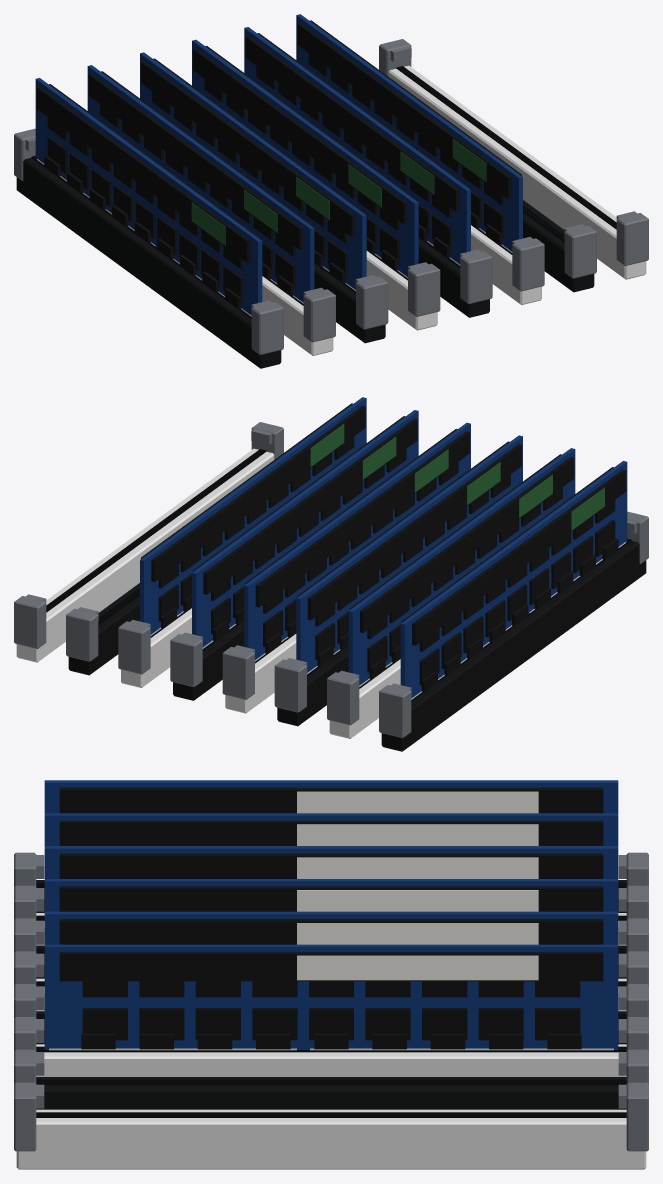
File: hwm_ram_ddr4_192gb.glb
3 views of the same model, one above another, from view 1: azimuth 30°, elevation 25°; view 2: azimuth 150°, elevation 25°; view 3: azimuth 270°, elevation 25° (orthographic). The views are drawn at different scales.
Parts seen in each view (by area): view 1: Slots, Stick_0, Stick_1, Stick_4, Stick_3, Stick_2, Stick_5, Latch_2_1, Latch_1_1, Latch_4_1, Latch_0_1, Latch_5_1 (+5 smaller); view 2: Slots, Stick_0, Stick_1, Stick_4, Stick_3, Stick_2, Stick_5, Latch_2_0, Latch_1_0, Latch_4_0, Latch_0_0, Latch_5_0 (+5 smaller); view 3: Slots, Stick_5, Stick_0, Stick_4, Stick_1, Stick_2, Stick_3, Latch_7_0, Latch_7_1, Latch_2_0, Latch_2_1, Latch_6_0 (+11 smaller).
Part boxes in pixels (<box>): Slots: <box>16,65,646,368</box>; Stick_0: <box>35,78,262,316</box>; Stick_1: <box>87,65,314,303</box>; Stick_4: <box>244,27,470,265</box>; Stick_3: <box>192,39,418,278</box>; Stick_2: <box>140,52,366,291</box>; Stick_5: <box>296,14,522,252</box>; Latch_2_1: <box>355,275,388,329</box>; Latch_1_1: <box>303,287,335,342</box>; Latch_4_1: <box>460,249,492,303</box>; Latch_0_1: <box>251,300,283,354</box>; Latch_5_1: <box>512,237,544,291</box>; Slots: <box>16,448,646,751</box>; Stick_0: <box>400,461,627,699</box>; Stick_1: <box>348,448,575,686</box>; Stick_4: <box>192,410,418,648</box>; Stick_3: <box>244,422,470,661</box>; Stick_2: <box>296,435,522,674</box>; Stick_5: <box>140,397,366,635</box>; Latch_2_0: <box>274,658,307,712</box>; Latch_1_0: <box>327,670,359,725</box>; Latch_4_0: <box>170,632,202,686</box>; Latch_0_0: <box>379,683,411,737</box>; Latch_5_0: <box>118,620,150,674</box>; Slots: <box>16,880,646,1169</box>; Stick_5: <box>44,944,618,1050</box>; Stick_0: <box>44,780,618,813</box>; Stick_4: <box>44,911,618,944</box>; Stick_1: <box>44,813,618,845</box>; Stick_2: <box>44,846,618,878</box>; Stick_3: <box>44,879,618,911</box>; Latch_7_0: <box>618,1082,648,1151</box>; Latch_7_1: <box>14,1082,44,1151</box>; Latch_2_0: <box>618,918,648,952</box>; Latch_2_1: <box>14,918,44,952</box>; Latch_6_0: <box>618,1049,648,1083</box>.
Size of the model in its own units: 0.1346 by 0.0389 by 0.1472.
